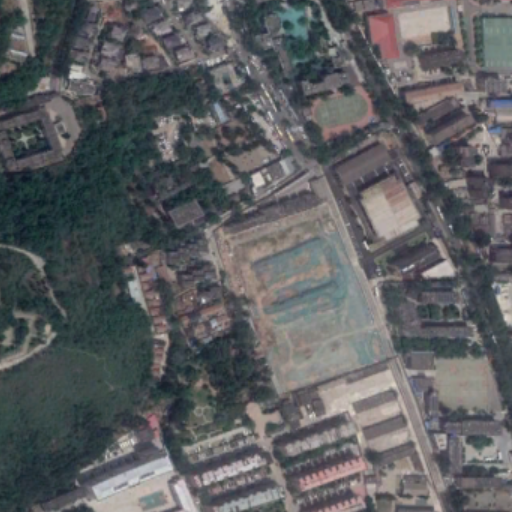cw: (245, 230, 396, 395)
